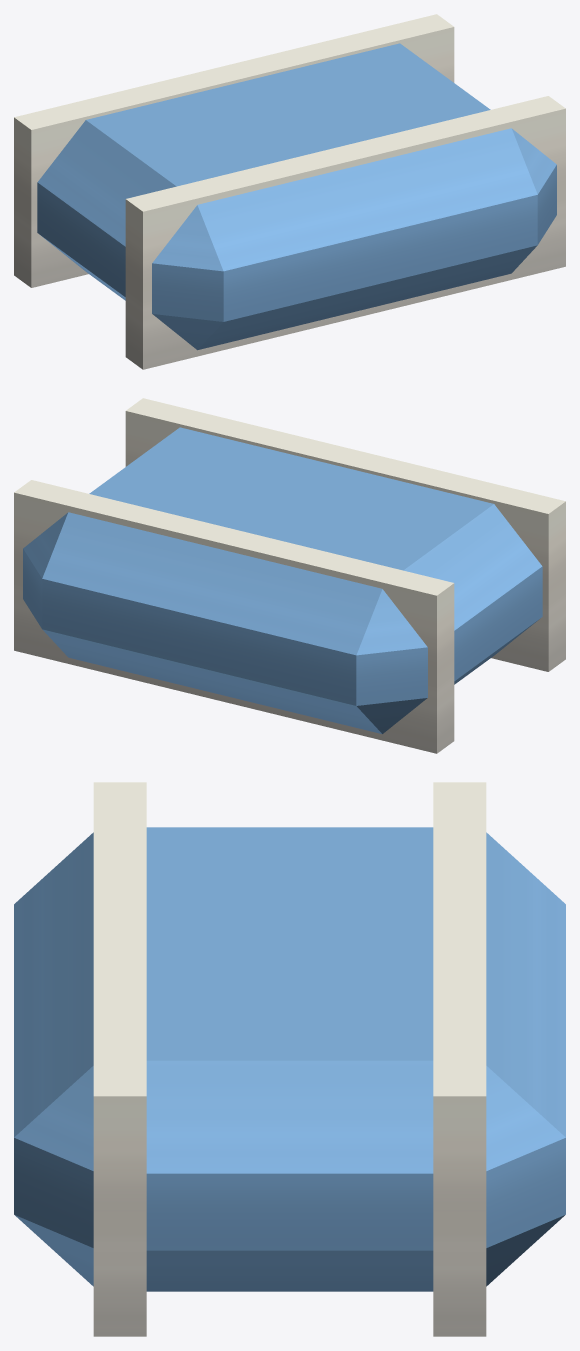
File: Cobertor.glb
3 renders of one model, top to bottom at view 1: azimuth 30°, elevation 25°; view 2: azimuth 150°, elevation 25°; view 3: azimuth 270°, elevation 25°, orthographic. The views are drawn at different scales.
Visible parts, largest first — view 1: Cobertor_Malha; view 2: Cobertor_Malha; view 3: Cobertor_Malha.
Part boxes in pixels (x1,y1,x2,y2): Cobertor_Malha: [14, 14, 565, 369]; Cobertor_Malha: [14, 398, 565, 753]; Cobertor_Malha: [14, 782, 565, 1336].
Bounding box in the file's own units: 0.35 × 0.125 × 0.26.
1 material, 1 textured.
